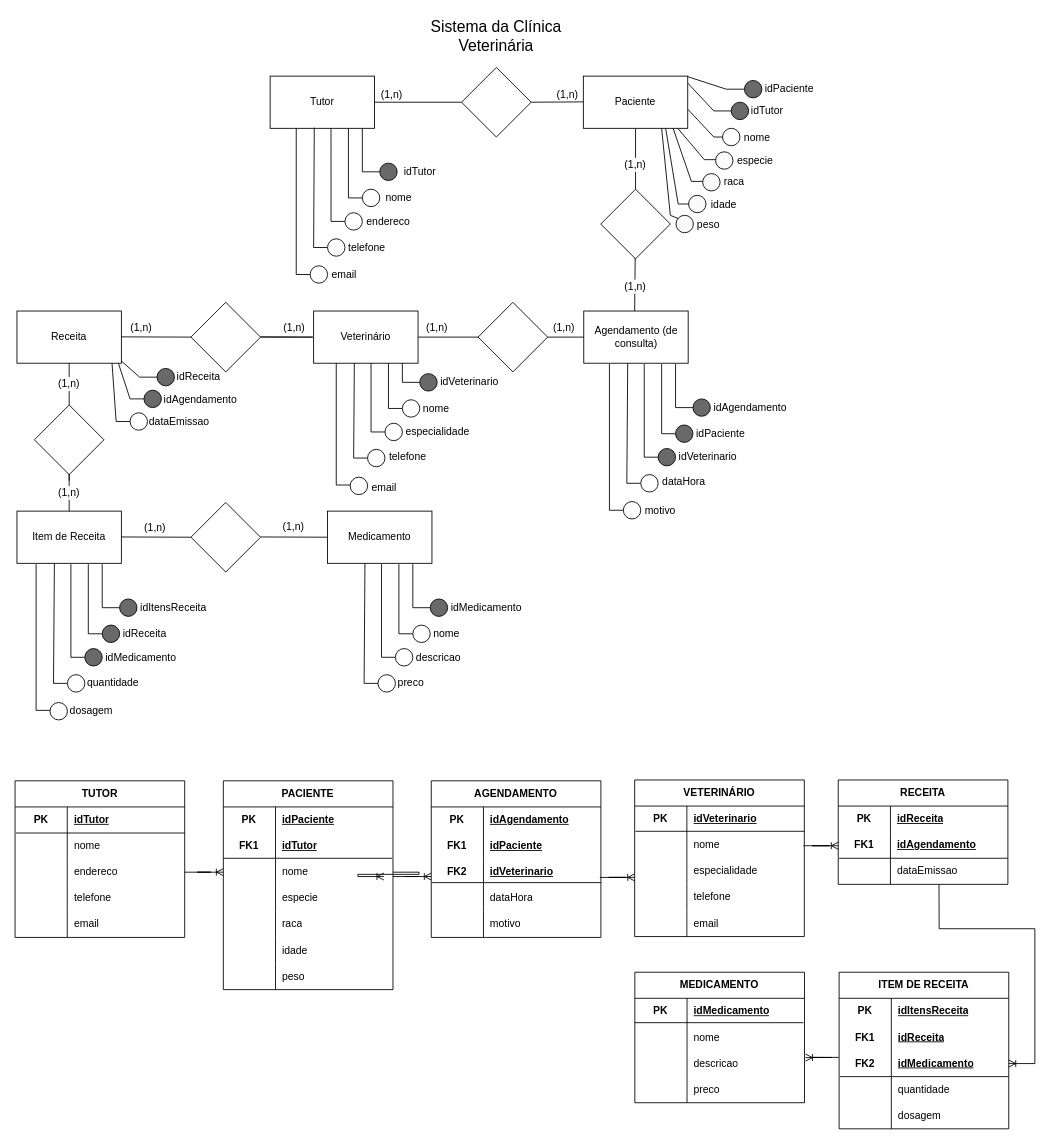
Some shapes in this 1058 by 1144 pixel diagram are drawn without their labels. The shapes that lost their labels are listed below. From the top down, each one's centre as x and y in pixels, then its label:
At point 496,102: "Leva".
At point 635,223: "Para".
At point 225,336: "Que".
At point 512,336: "No".
At point 68,439: "Um".
At point 225,537: "Que consiste em um".
